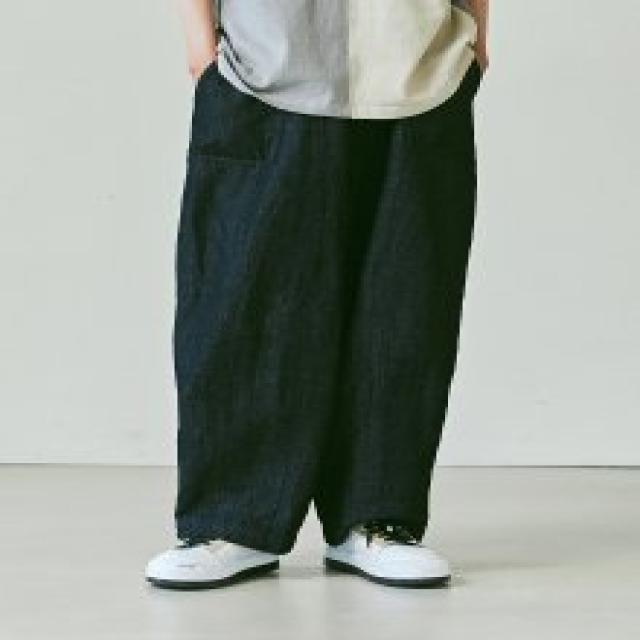long-pants: (171, 57, 478, 547)
